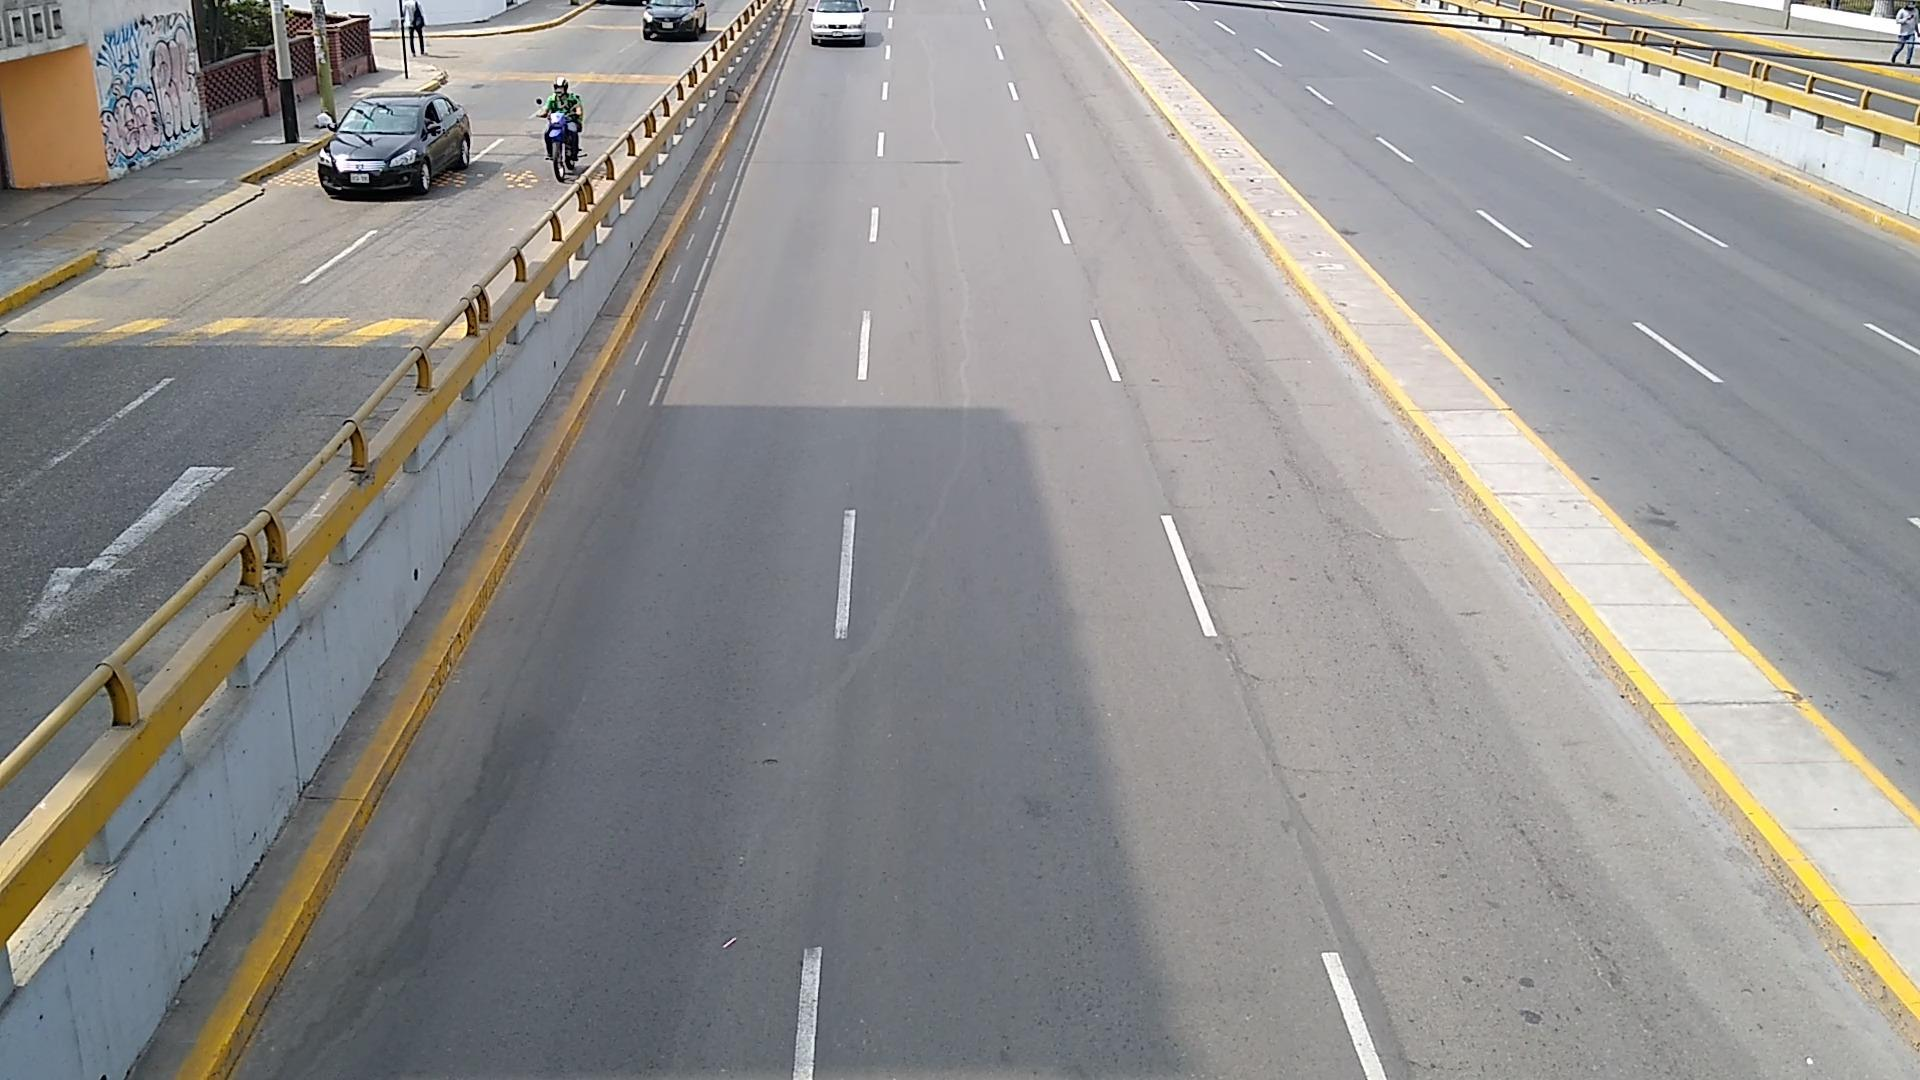car: (315, 94, 472, 195), (810, 0, 866, 45)
motorcyclist: (541, 79, 585, 167)
